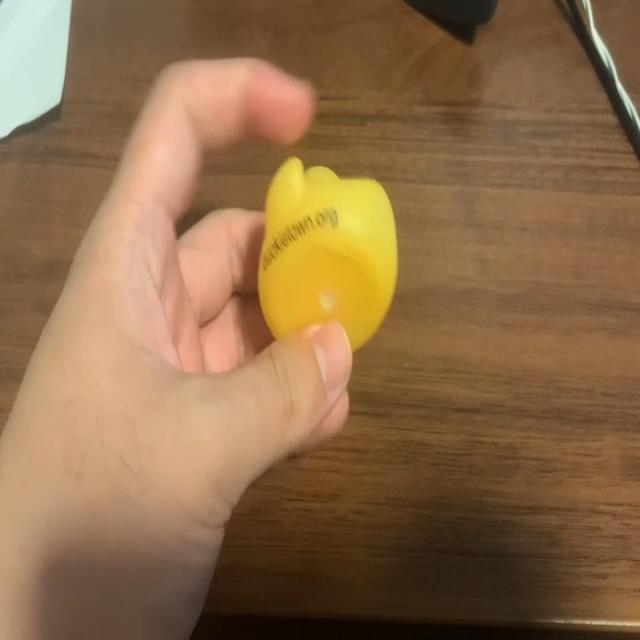rubber-duck: (258, 156, 395, 348)
